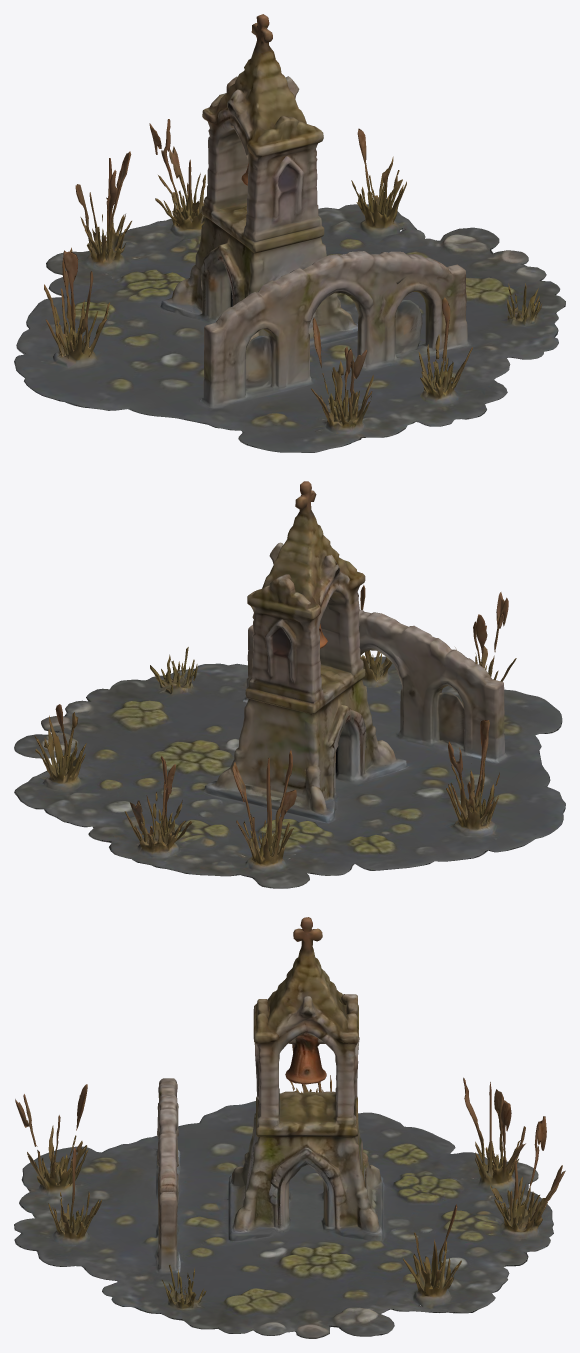
Rendered from lm_drowned_chapel.glb.
3 renders of one model, top to bottom at view 1: azimuth 30°, elevation 25°; view 2: azimuth 150°, elevation 25°; view 3: azimuth 270°, elevation 25°, orthographic. The views are drawn at different scales.
Visible parts, largest first — view 1: tripo_node_6c179565-81eb-47e8-a72a-546422151b7c; view 2: tripo_node_6c179565-81eb-47e8-a72a-546422151b7c; view 3: tripo_node_6c179565-81eb-47e8-a72a-546422151b7c.
Part boxes in pixels (left/top/right/bottom): tripo_node_6c179565-81eb-47e8-a72a-546422151b7c: left=14, top=14, right=565, bottom=452; tripo_node_6c179565-81eb-47e8-a72a-546422151b7c: left=14, top=481, right=565, bottom=888; tripo_node_6c179565-81eb-47e8-a72a-546422151b7c: left=14, top=917, right=565, bottom=1338.
Size of the model in its own units: 7.5 by 4.46 by 7.32.
1 material, 1 textured.
